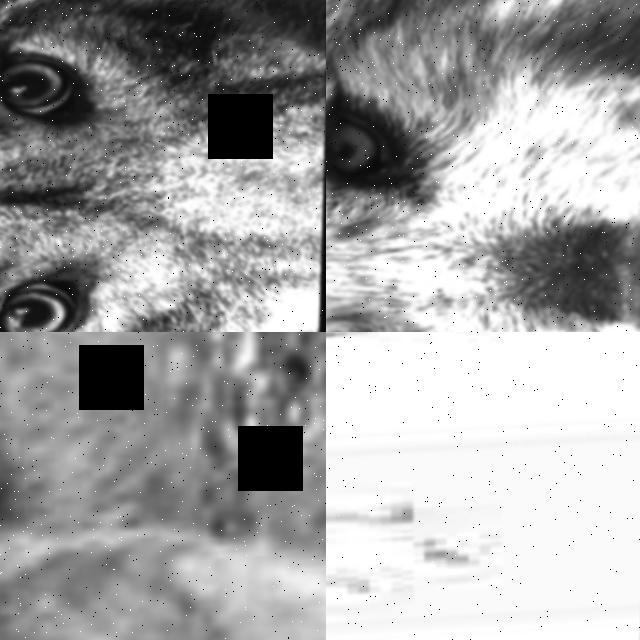dog: (326, 332, 593, 445), (326, 475, 528, 624)
wolf: (0, 0, 326, 332), (326, 0, 640, 332), (0, 332, 326, 640)
